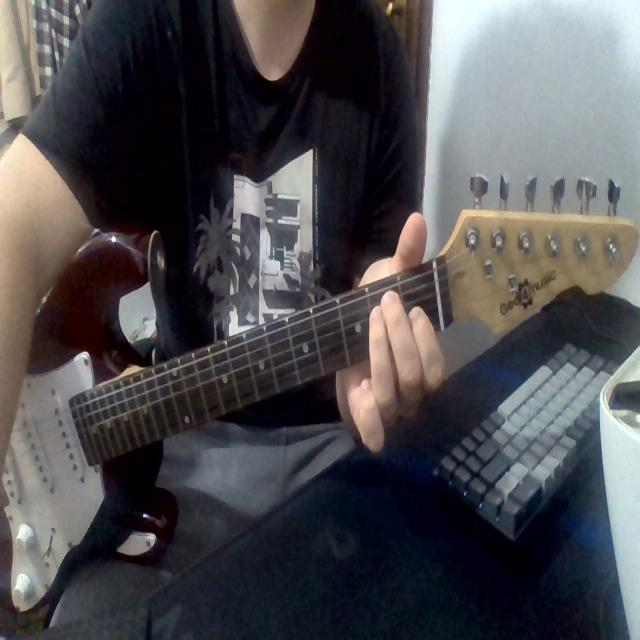E: (358, 249, 465, 462)
